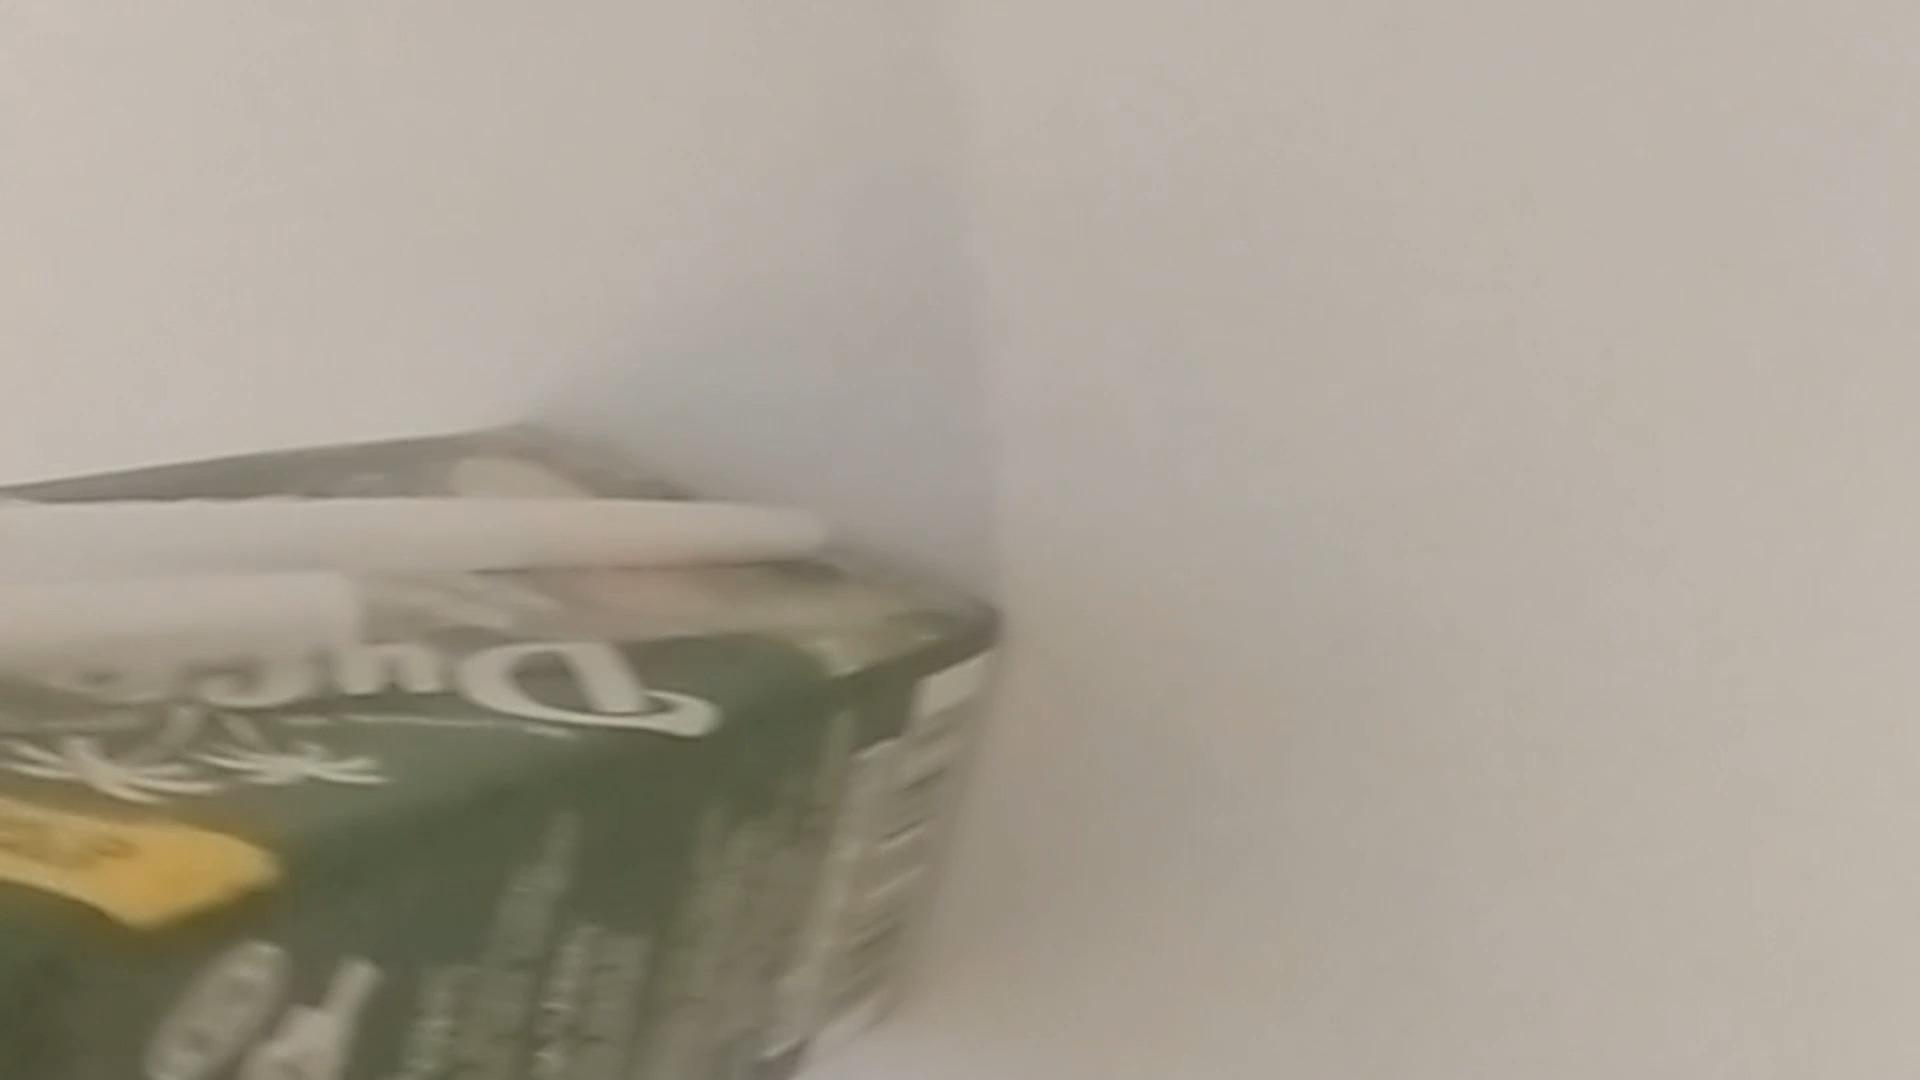coco: (1, 429, 1007, 1080)
